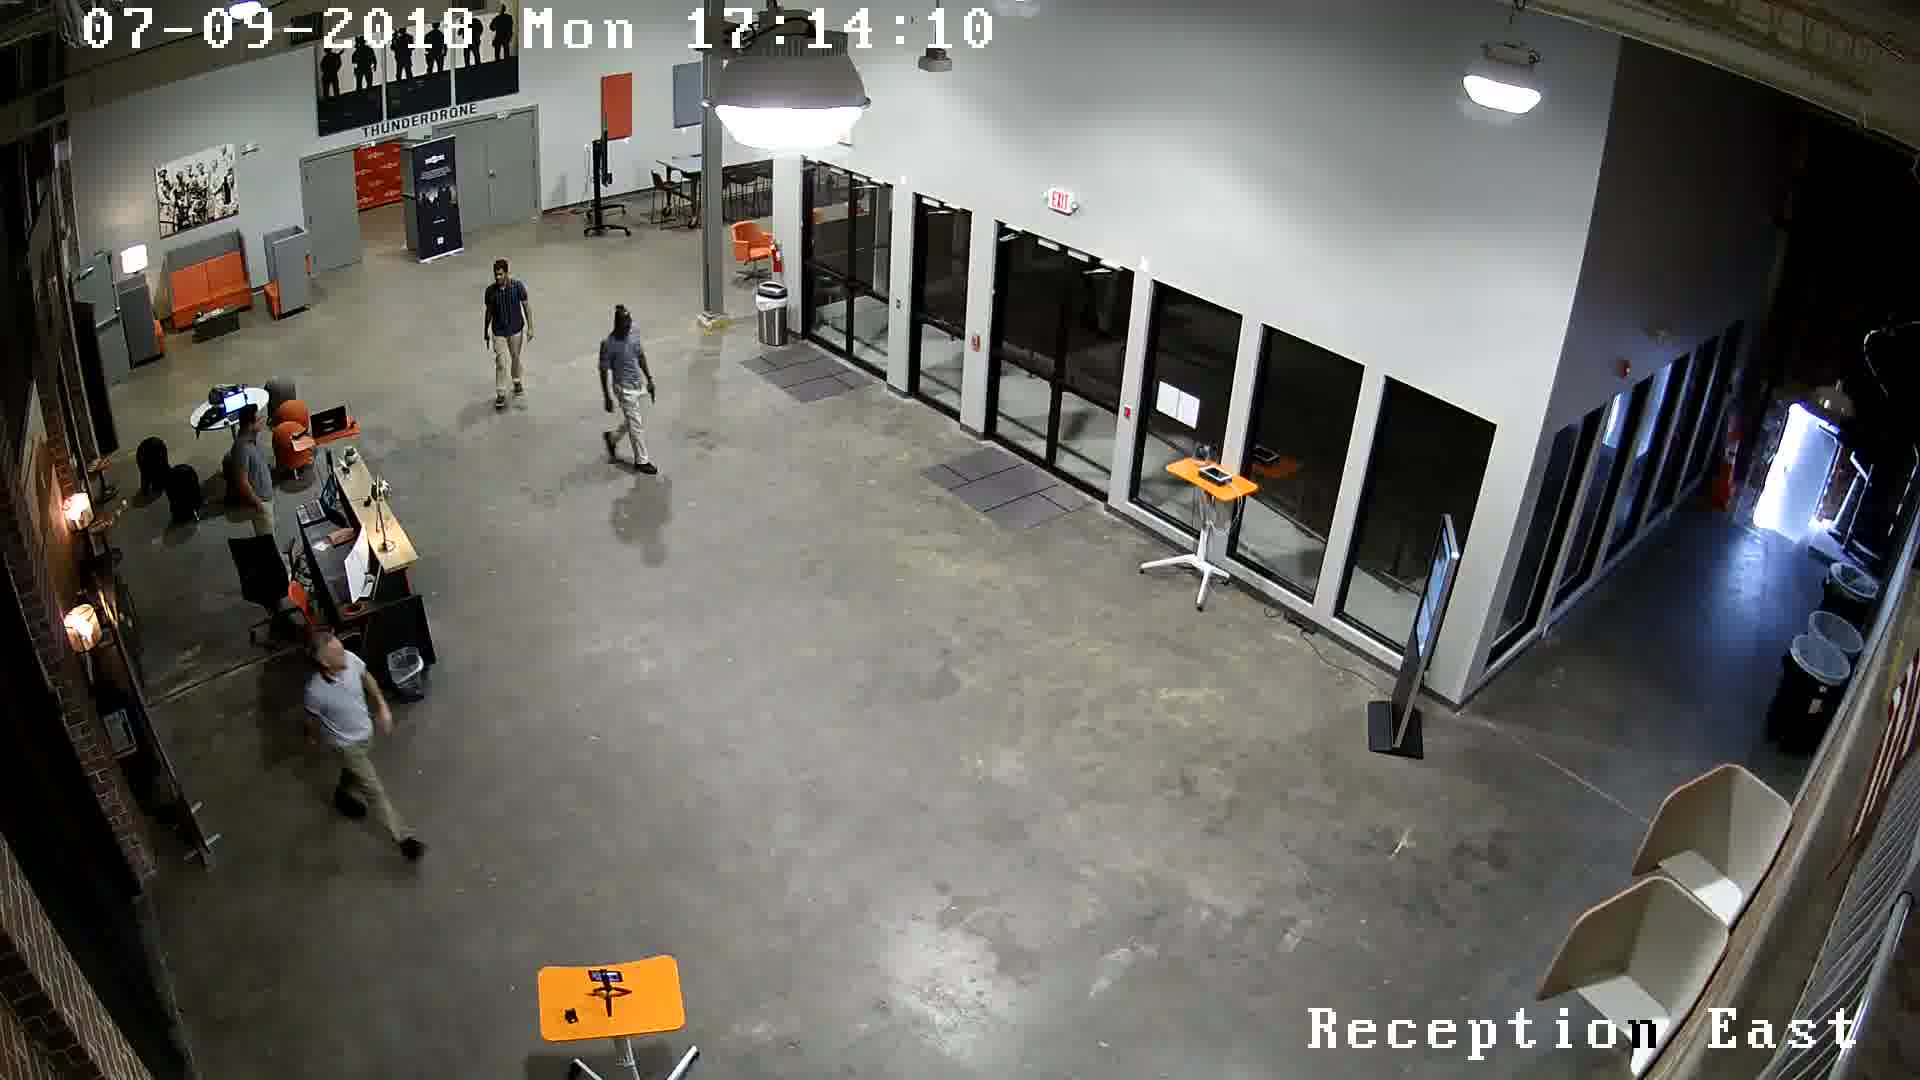pistol: (475, 327, 498, 359), (640, 377, 659, 411)
